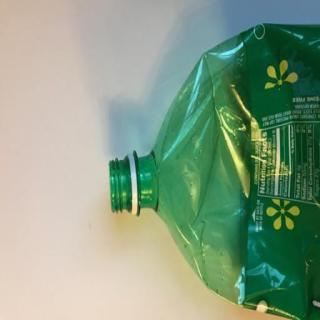Plastic-bottle: (108, 23, 320, 320)
